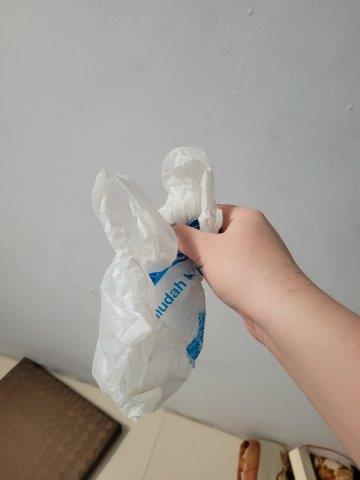plastik: (92, 146, 225, 416)
